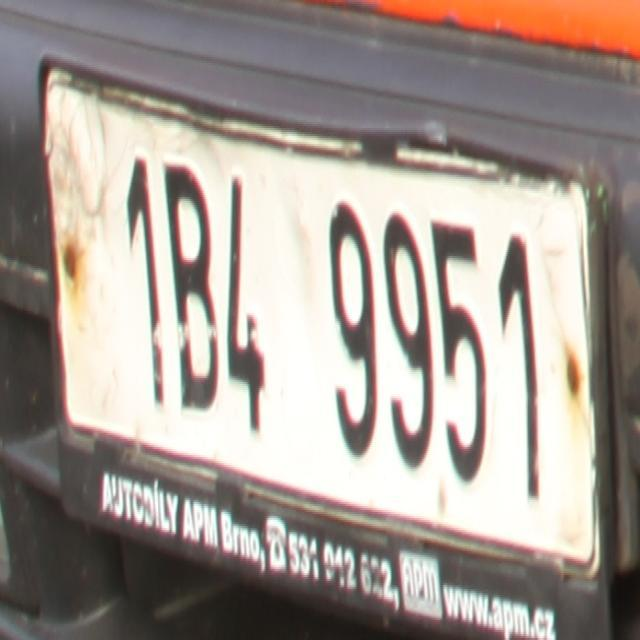1: (494, 223, 550, 502), (122, 150, 163, 412)
4: (224, 160, 266, 430)
5: (433, 215, 487, 490)
9: (380, 200, 434, 480), (324, 195, 378, 461)
B: (162, 150, 222, 412)
